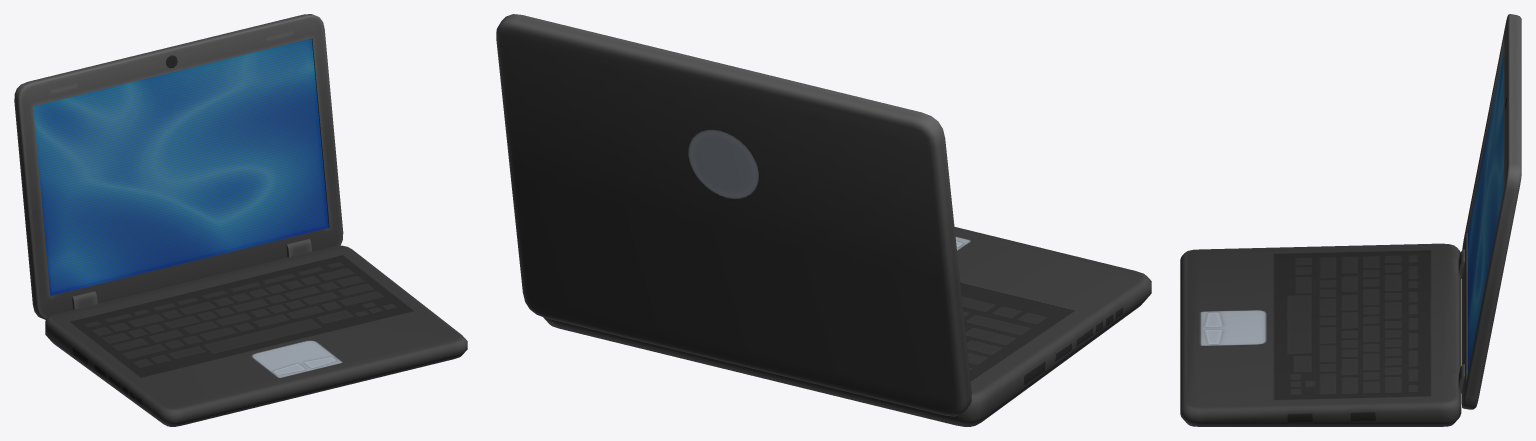
Rendered from OfficeLaptop01.FBX.
3 renders of one model, left to right at view 1: azimuth 30°, elevation 25°; view 2: azimuth 150°, elevation 25°; view 3: azimuth 270°, elevation 25°, orthographic. The views are drawn at different scales.
Parts seen in each view (by area): view 1: OfficeLaptop01; view 2: OfficeLaptop01; view 3: OfficeLaptop01.
Part boxes in pixels (left/top/right/bottom): OfficeLaptop01: left=14, top=14, right=467, bottom=426; OfficeLaptop01: left=496, top=14, right=1151, bottom=426; OfficeLaptop01: left=1180, top=14, right=1521, bottom=426.
Size of what is drawn, in the model's own units: 0.44 by 0.3225 by 0.3878.
